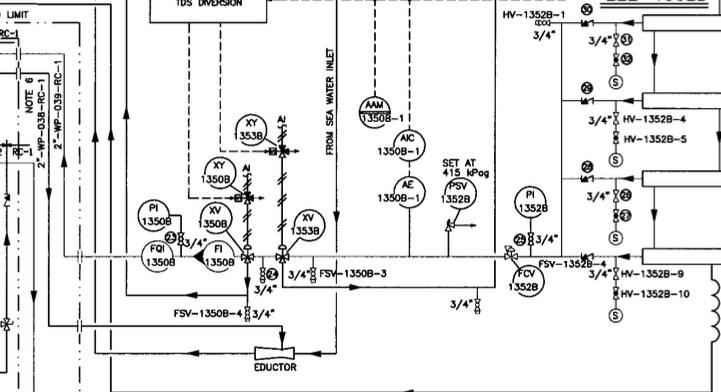Instrument-offset: (376, 174, 429, 211), (373, 129, 430, 163), (355, 95, 404, 130), (438, 176, 484, 213), (289, 207, 331, 243), (195, 200, 235, 237), (512, 184, 553, 220), (134, 196, 173, 233), (506, 264, 547, 299), (198, 154, 237, 190), (140, 238, 177, 275), (231, 111, 269, 146), (201, 240, 239, 272)
